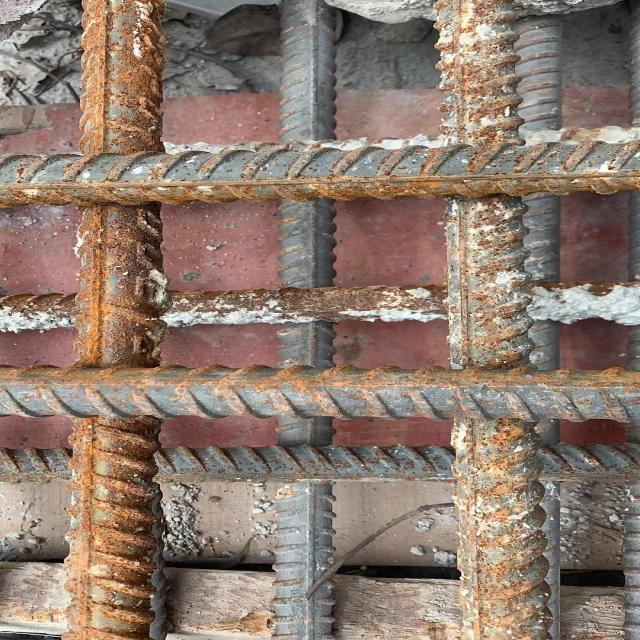ribbed bar: (428, 0, 549, 639), (62, 0, 168, 639), (269, 0, 340, 639), (0, 138, 639, 208), (0, 277, 639, 336), (0, 364, 639, 421), (0, 443, 639, 483), (509, 16, 564, 371)
